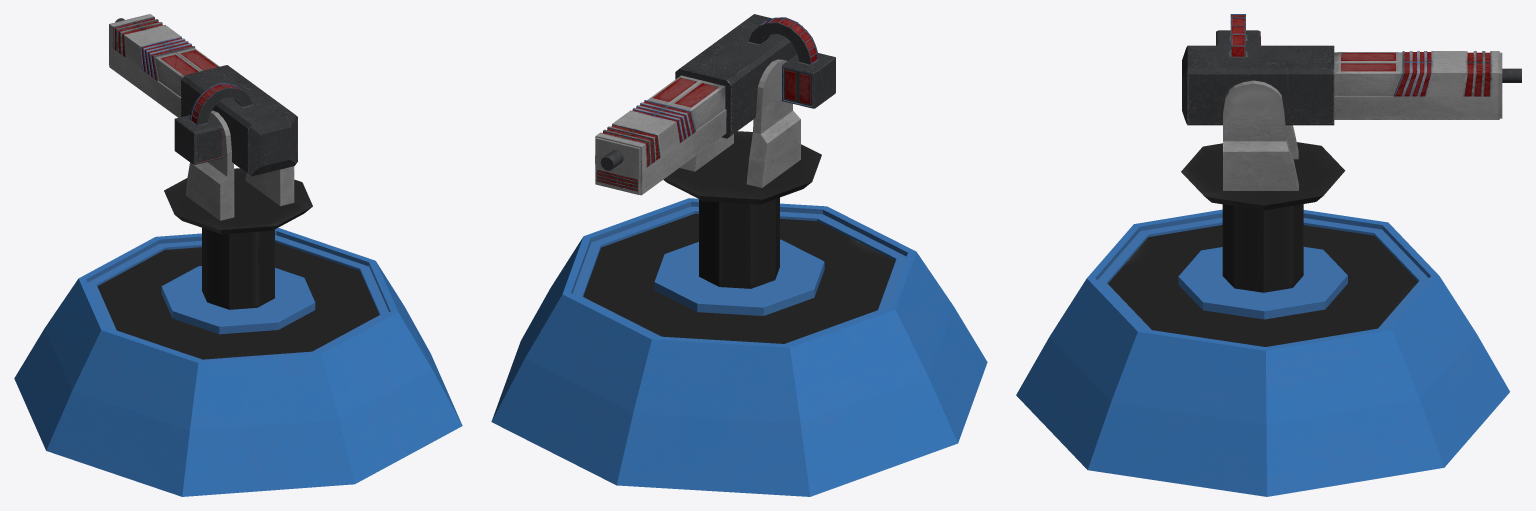
Rendered from Torreta_01.fbx.
3 renders of one model, left to right at view 1: azimuth 30°, elevation 25°; view 2: azimuth 150°, elevation 25°; view 3: azimuth 270°, elevation 25°, orthographic. The views are drawn at different scales.
Visible parts, largest first — view 1: Base, Cañon, Soporte; view 2: Base, Cañon, Soporte; view 3: Base, Cañon, Soporte.
Part boxes in pixels (box(x1,y1,x2,y2)): Base: box(14, 228, 462, 496); Cañon: box(109, 14, 297, 176); Soporte: box(164, 110, 312, 309); Base: box(491, 198, 987, 496); Cañon: box(595, 14, 835, 195); Soporte: box(663, 59, 821, 288); Base: box(1016, 209, 1509, 496); Cañon: box(1182, 14, 1521, 125); Soporte: box(1181, 80, 1345, 292).
Size of the model in its own units: 392 by 320 by 406.
